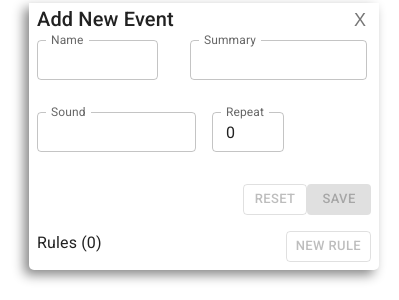
Test: eventsutil - create › enables reset and save after name modification
The image size is (399, 300).
Type "newgrp" into the field with test id "nameInput".
click(97, 60); type("newgrp")  # box [37,40,158,80]
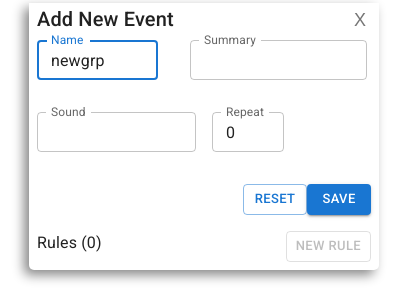
Expected: the button "Reset" is enabled, [243,184,307,215]
Expected: the button "Save" is enabled, [307,184,371,215]
